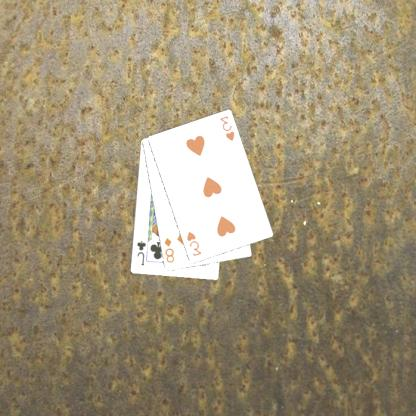3H: (219, 114, 238, 142), (186, 229, 204, 257)
8D: (163, 235, 177, 264)
JC: (136, 238, 148, 267)
